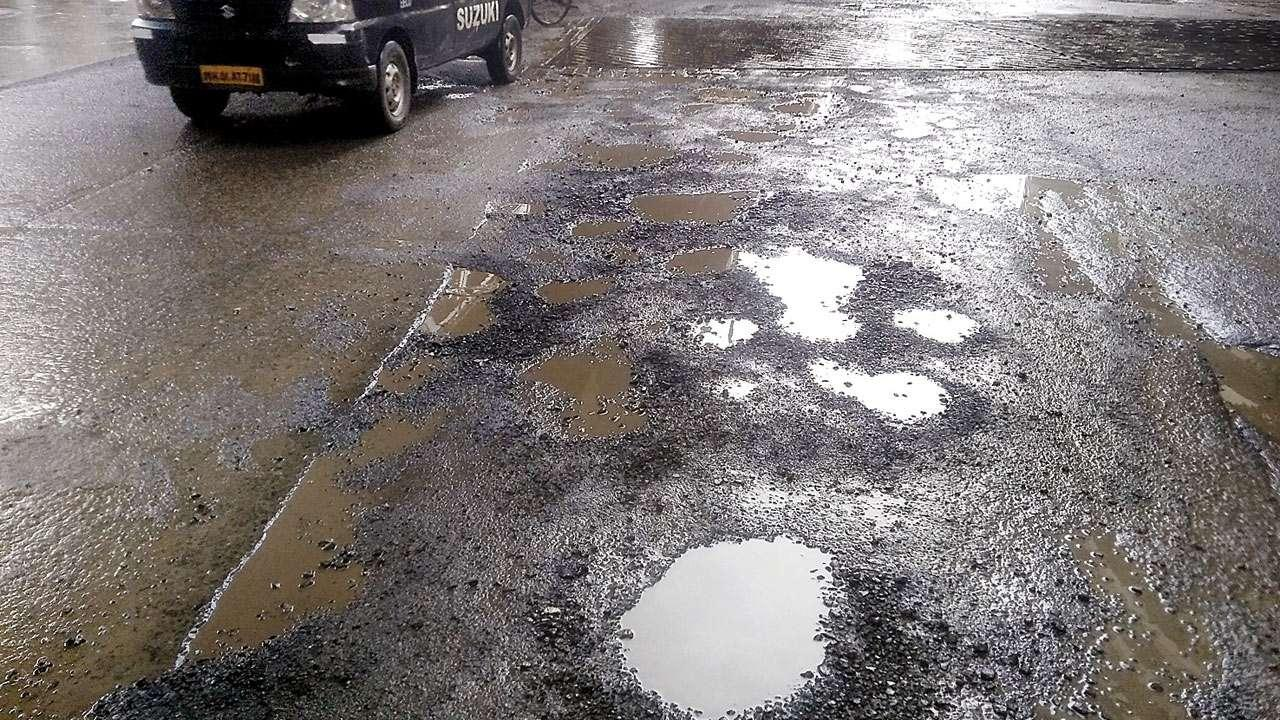Pothole: (181, 115, 1101, 720), (556, 106, 702, 177)
